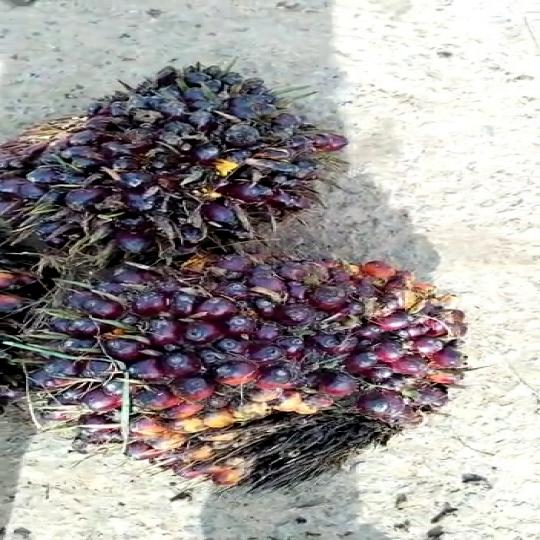kurang masak: (21, 263, 474, 485), (0, 52, 345, 270)
